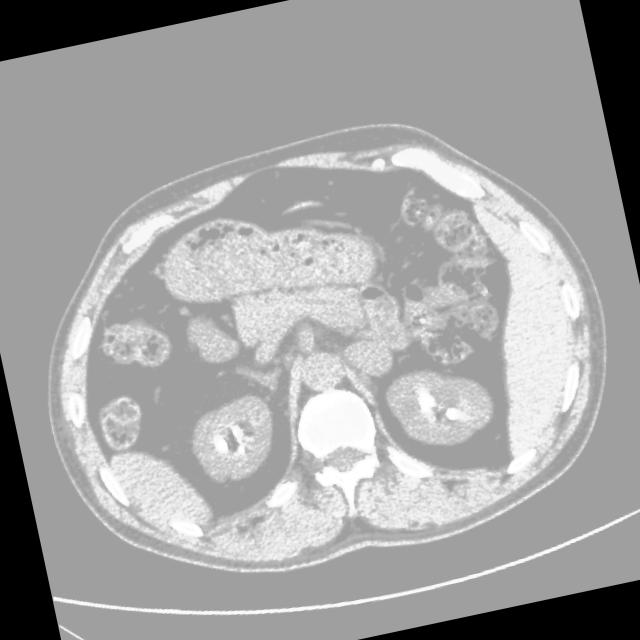STONE: (158, 246, 542, 507)
